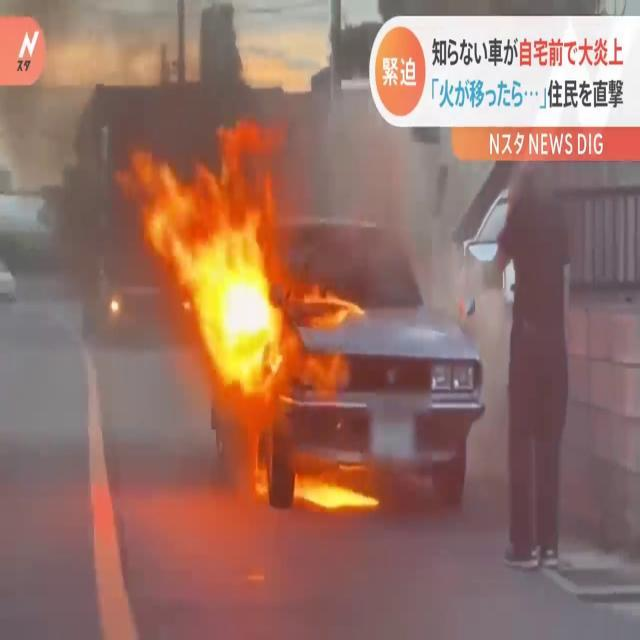Fire: (120, 118, 348, 400), (292, 460, 382, 516)
